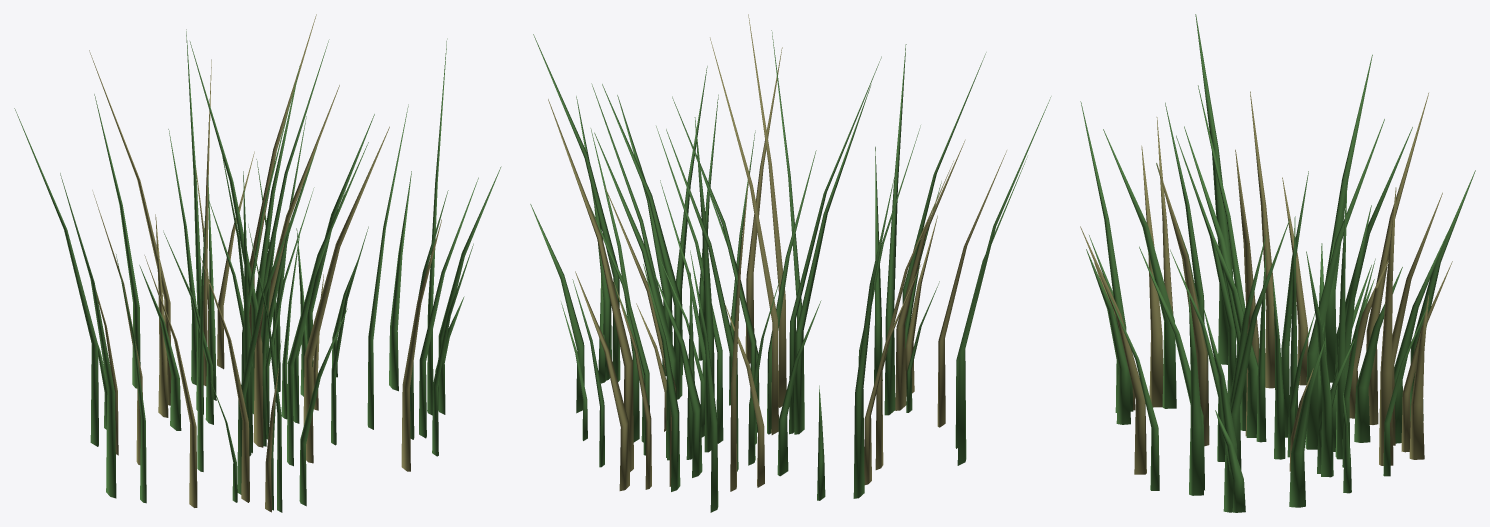
Rendered from MSH_GrassTuft_B.fbx.
3 renders of one model, left to right at view 1: azimuth 30°, elevation 25°; view 2: azimuth 150°, elevation 25°; view 3: azimuth 270°, elevation 25°, orthographic. The views are drawn at different scales.
Visible parts, largest first — view 1: MSH_GrassTuft_B_Blades3D; view 2: MSH_GrassTuft_B_Blades3D; view 3: MSH_GrassTuft_B_Blades3D.
Boxes of the visible parts, x1=… form: MSH_GrassTuft_B_Blades3D: x1=14, y1=14, x2=501, y2=512; MSH_GrassTuft_B_Blades3D: x1=530, y1=14, x2=1051, y2=512; MSH_GrassTuft_B_Blades3D: x1=1080, y1=14, x2=1475, y2=512.
Bounding box in the file's own units: 0.898 × 0.6769 × 0.7592.
